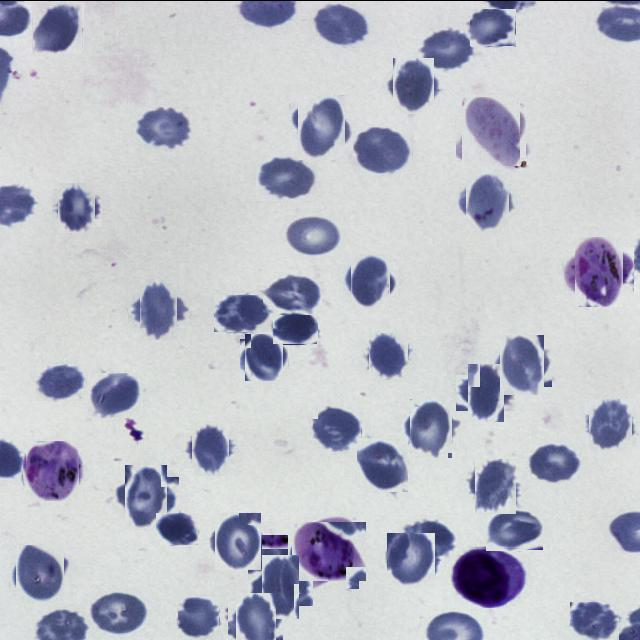leukocyte: (452, 546, 525, 606)
red blood cell: (459, 99, 523, 163), (294, 98, 349, 154), (12, 546, 66, 600), (119, 470, 173, 524), (353, 126, 413, 174), (89, 590, 150, 636), (256, 155, 318, 200), (495, 338, 548, 390), (356, 438, 409, 490), (212, 515, 264, 567), (462, 176, 514, 228), (258, 538, 310, 590), (312, 3, 372, 47), (134, 106, 194, 150), (406, 402, 457, 453), (255, 561, 306, 612), (32, 2, 84, 52), (398, 516, 456, 560), (284, 214, 343, 257), (386, 534, 436, 584), (134, 283, 183, 333), (88, 372, 142, 417), (389, 61, 438, 110), (263, 273, 324, 312), (528, 442, 583, 485), (418, 27, 474, 69), (486, 508, 543, 549), (472, 461, 520, 509), (587, 400, 635, 448), (313, 405, 362, 452), (347, 256, 394, 304), (462, 368, 509, 416), (214, 294, 271, 332), (232, 596, 280, 640), (188, 425, 233, 471), (366, 333, 411, 378), (570, 601, 620, 640), (36, 363, 87, 401), (55, 185, 99, 229), (242, 335, 286, 378), (178, 596, 220, 640), (470, 8, 516, 46), (273, 314, 318, 344), (156, 512, 198, 544)
schizont: (296, 518, 362, 584)
trophozoite: (570, 240, 628, 300), (24, 442, 82, 498)
